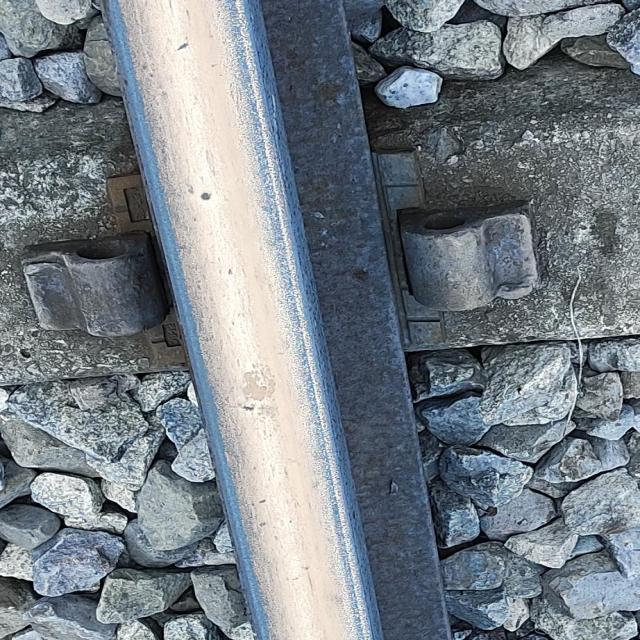Missing Fastener: (365, 184, 588, 346), (11, 229, 170, 368)
